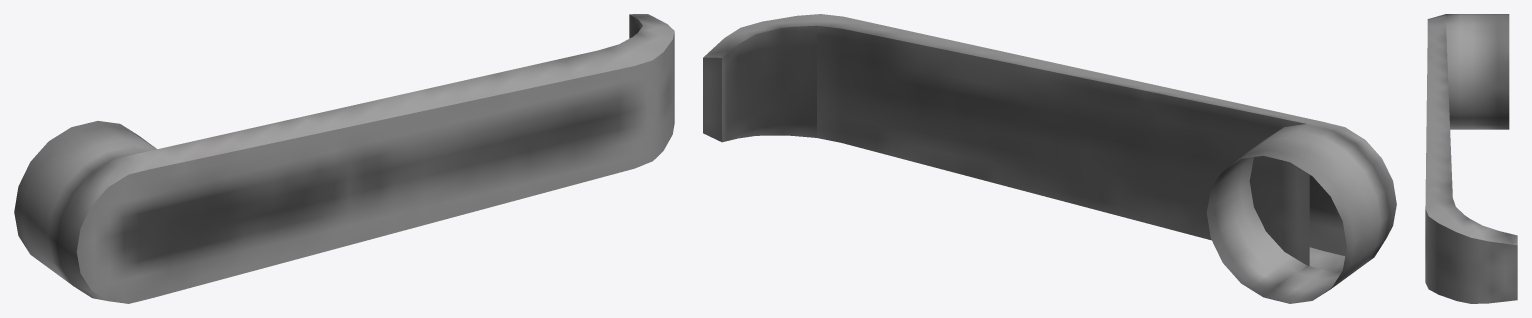
File: ExitFrameHandle.fbx
3 views of the same model, side by side, from view 1: azimuth 30°, elevation 25°; view 2: azimuth 150°, elevation 25°; view 3: azimuth 270°, elevation 25° (orthographic). The views are drawn at different scales.
Parts seen in each view (by area): view 1: DootHandle1; view 2: DootHandle1; view 3: DootHandle1.
Part boxes in pixels (box(x1,y1,x2,y2)): DootHandle1: box(14, 14, 674, 303); DootHandle1: box(703, 14, 1396, 303); DootHandle1: box(1425, 14, 1517, 303).
Bounding box in the file's own units: 24.97 × 5.3 × 4.3.
Materials: 1 (1 with a texture image).
